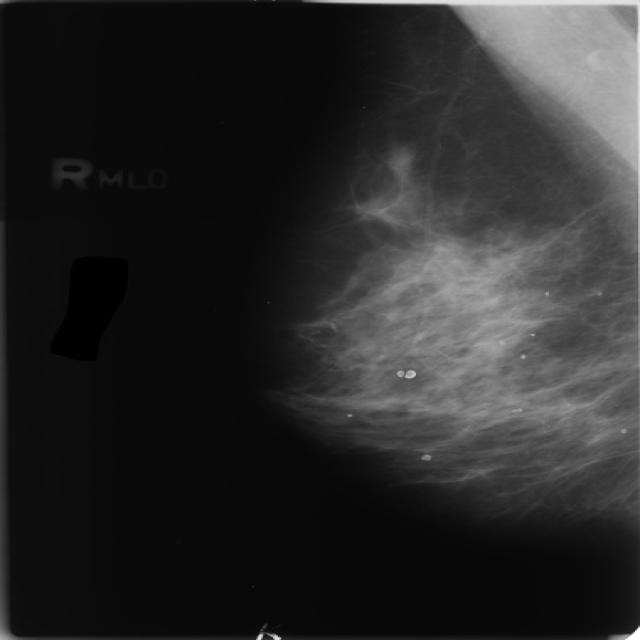tumour: (357, 189, 421, 217)
